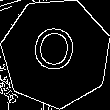O_S: (31, 25, 81, 81)
